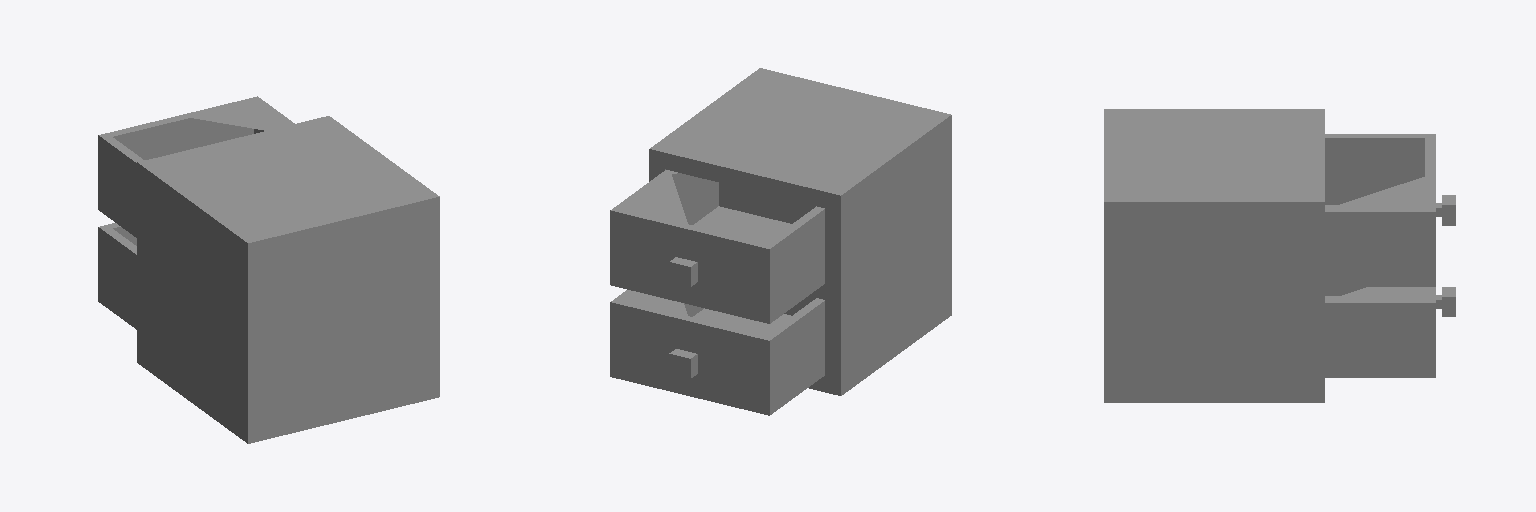
The model's file is kitchen_wooden_cabinet_4.obj.
The picture shows the model from 3 angles: view 1: azimuth 30°, elevation 25°; view 2: azimuth 150°, elevation 25°; view 3: azimuth 270°, elevation 25°; orthographic projection.
Parts seen in each view (by area): view 1: Cube.000, Cube.001, Cube.002; view 2: Cube.000, Cube.001, Cube.002; view 3: Cube.000, Cube.001, Cube.002.
Boxes of the visible parts, x1,y1,x2,y2 form: Cube.000: [137, 116, 439, 443]; Cube.001: [98, 96, 294, 237]; Cube.002: [98, 223, 136, 329]; Cube.000: [649, 68, 951, 395]; Cube.001: [610, 170, 824, 323]; Cube.002: [610, 290, 824, 415]; Cube.000: [1104, 109, 1324, 402]; Cube.001: [1325, 134, 1455, 286]; Cube.002: [1325, 287, 1455, 377].
Size of the model in its own units: 2 by 2 by 3.18.